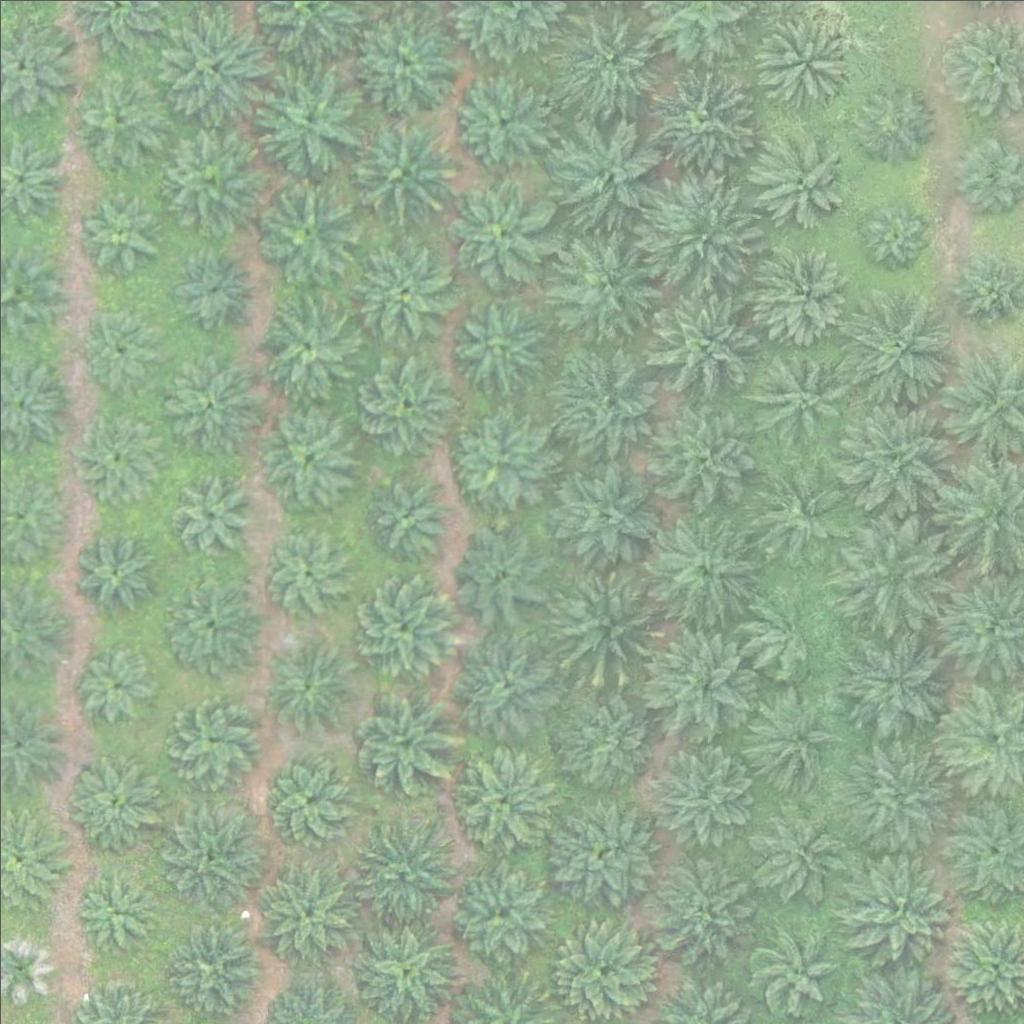Kelapa_Sawit: (341, 813, 454, 927), (841, 298, 954, 412), (841, 847, 954, 960), (643, 739, 756, 852), (347, 682, 460, 795), (345, 572, 458, 685), (546, 459, 659, 572), (550, 349, 663, 462), (641, 625, 754, 738), (650, 512, 763, 625), (644, 395, 757, 508), (642, 177, 755, 290), (641, 60, 754, 173), (545, 229, 658, 342), (548, 115, 661, 228), (554, 4, 667, 117), (253, 62, 366, 175), (155, 10, 268, 123), (155, 797, 267, 911), (645, 283, 757, 397), (838, 517, 950, 631), (836, 400, 948, 514), (839, 739, 951, 852), (540, 795, 652, 908), (549, 679, 661, 792), (550, 564, 662, 677), (840, 624, 952, 737), (442, 175, 554, 288), (347, 236, 459, 349), (340, 109, 452, 222), (347, 3, 459, 116), (647, 856, 747, 957), (549, 920, 649, 1021), (447, 863, 547, 964), (161, 919, 261, 1020), (156, 354, 256, 455), (258, 635, 358, 736), (257, 407, 357, 508), (257, 290, 357, 391), (353, 353, 453, 454), (454, 748, 554, 849), (457, 636, 557, 737), (448, 520, 548, 621), (447, 410, 547, 511), (450, 296, 550, 397), (742, 690, 842, 791), (754, 239, 854, 340), (748, 127, 848, 228), (753, 9, 853, 110), (448, 70, 548, 171), (255, 859, 355, 959), (61, 752, 161, 852), (162, 690, 262, 790), (158, 574, 258, 674), (258, 749, 358, 849), (750, 464, 850, 564), (746, 345, 846, 445), (256, 187, 356, 287), (158, 127, 258, 227), (70, 69, 170, 169), (70, 635, 158, 723), (361, 471, 449, 559), (745, 586, 833, 674), (752, 926, 839, 1014), (751, 810, 838, 898), (164, 472, 251, 560), (262, 528, 349, 616), (848, 76, 935, 164), (76, 873, 151, 949), (74, 530, 149, 606), (76, 419, 151, 495), (173, 249, 248, 325), (79, 196, 154, 272), (84, 305, 159, 380), (857, 197, 932, 272)
